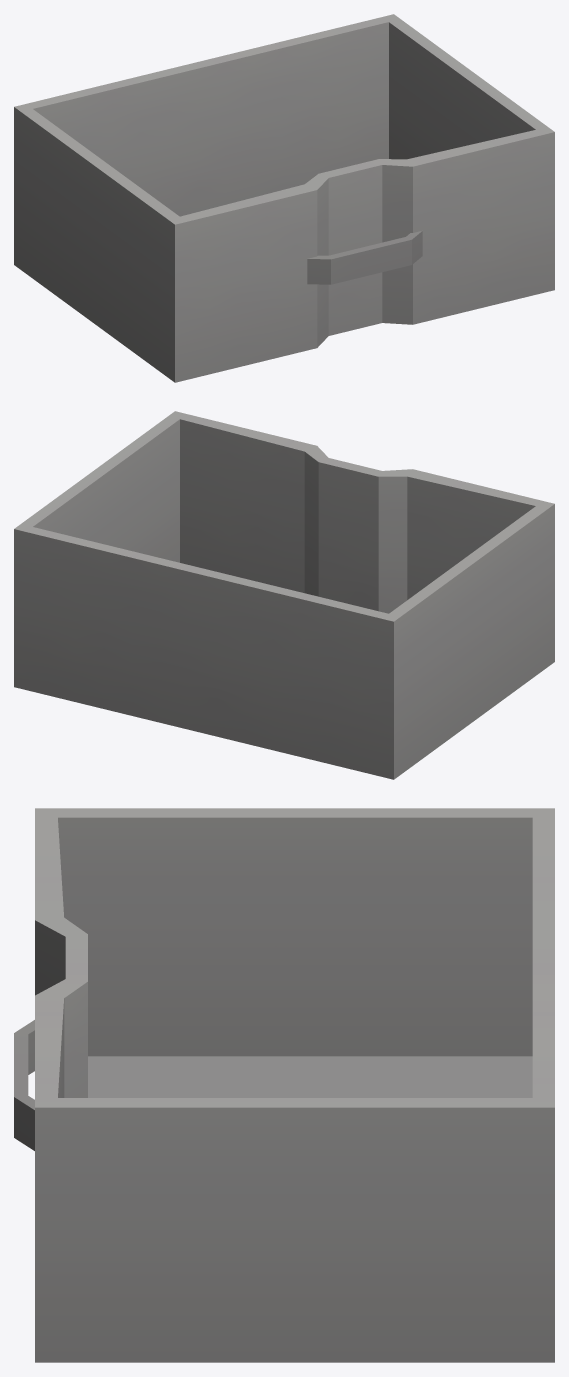
File: PhotoCopier_Drawer_Base.fbx
The picture shows the model from 3 angles, top to bottom: view 1: azimuth 30°, elevation 25°; view 2: azimuth 150°, elevation 25°; view 3: azimuth 270°, elevation 25°; orthographic projection. The views are drawn at different scales.
Parts seen in each view (by area): view 1: PhotoCopier_Drawer_Base; view 2: PhotoCopier_Drawer_Base; view 3: PhotoCopier_Drawer_Base.
Part boxes in pixels (box(x1,y1,x2,y2)): PhotoCopier_Drawer_Base: box(14, 14, 554, 382); PhotoCopier_Drawer_Base: box(14, 411, 554, 779); PhotoCopier_Drawer_Base: box(14, 808, 554, 1362).
Size of the model in its own units: 47.85 by 19.03 by 36.56.
